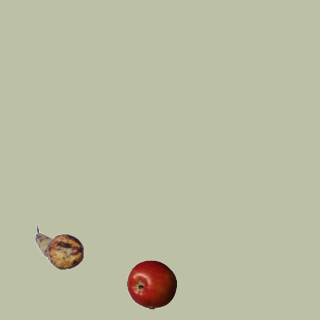Apple Braeburn: (126, 259, 176, 309)
Pear Abate: (34, 222, 84, 272)
